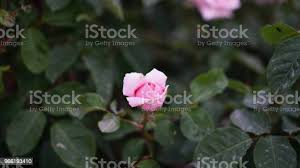rose: (118, 63, 170, 113)
